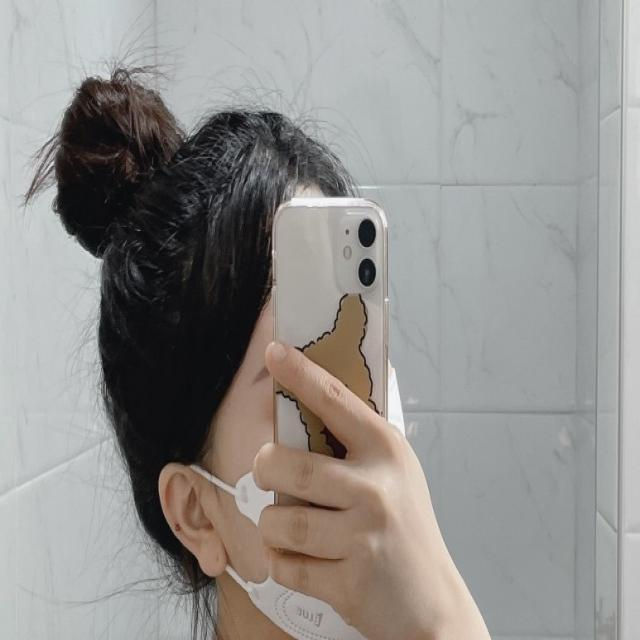phone: (274, 200, 390, 570)
